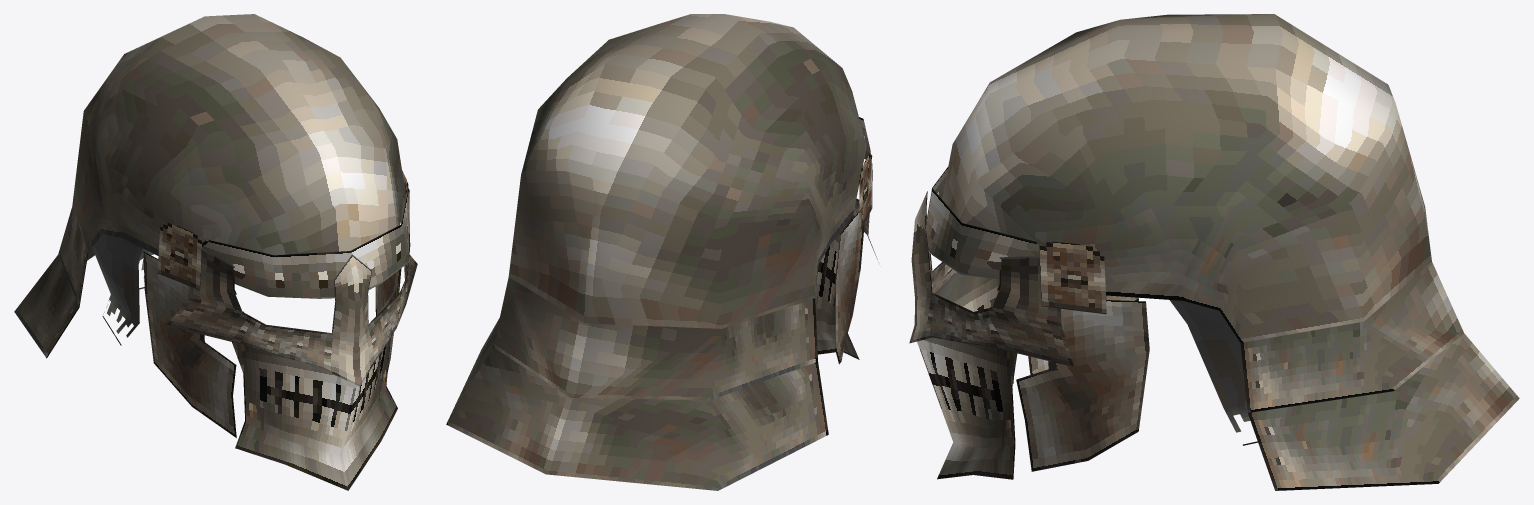
Rendered from m_hair199.glb.
3 renders of one model, left to right at view 1: azimuth 30°, elevation 25°; view 2: azimuth 150°, elevation 25°; view 3: azimuth 270°, elevation 25°, orthographic. The views are drawn at different scales.
Size of the model in its own units: 21.41 by 23.61 by 29.08.
Materials: 1 (1 with a texture image).
